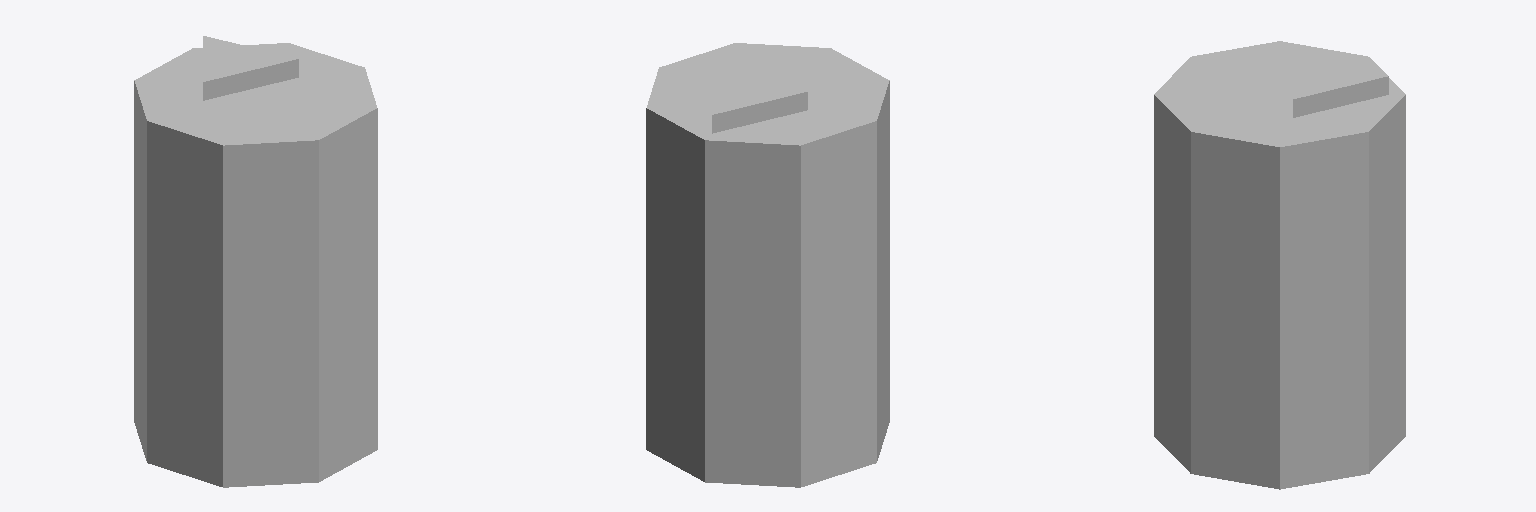
The model's file is lara.obj.
The picture shows the model from 3 angles: view 1: azimuth 30°, elevation 25°; view 2: azimuth 150°, elevation 25°; view 3: azimuth 270°, elevation 25°; orthographic projection.
Parts seen in each view (by area): view 1: torso_body, direction_arrow; view 2: torso_body, direction_arrow; view 3: torso_body, direction_arrow.
Part boxes in pixels (x1,y1,x2,y2): torso_body: (134, 43, 377, 487); direction_arrow: (203, 36, 298, 100); torso_body: (646, 43, 889, 487); direction_arrow: (712, 68, 807, 133); torso_body: (1154, 41, 1405, 489); direction_arrow: (1293, 53, 1388, 117).
Bounding box in the file's own units: 0.4 × 0.6327 × 0.4.